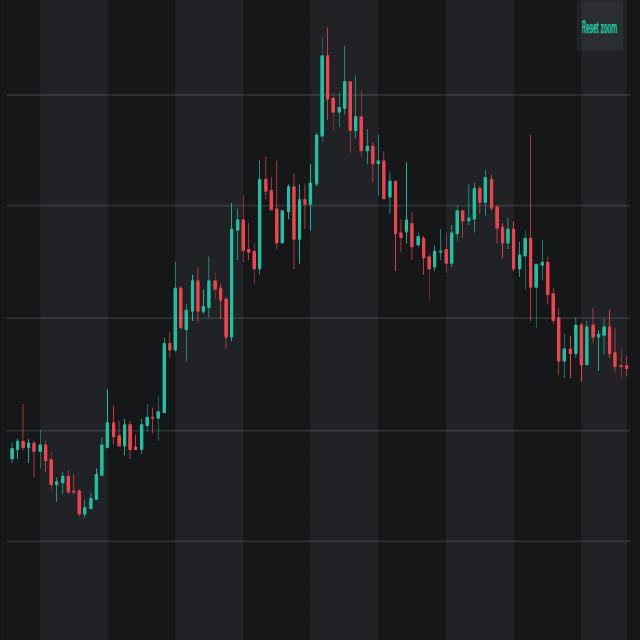Falling-Wedge: (290, 0, 636, 412)
